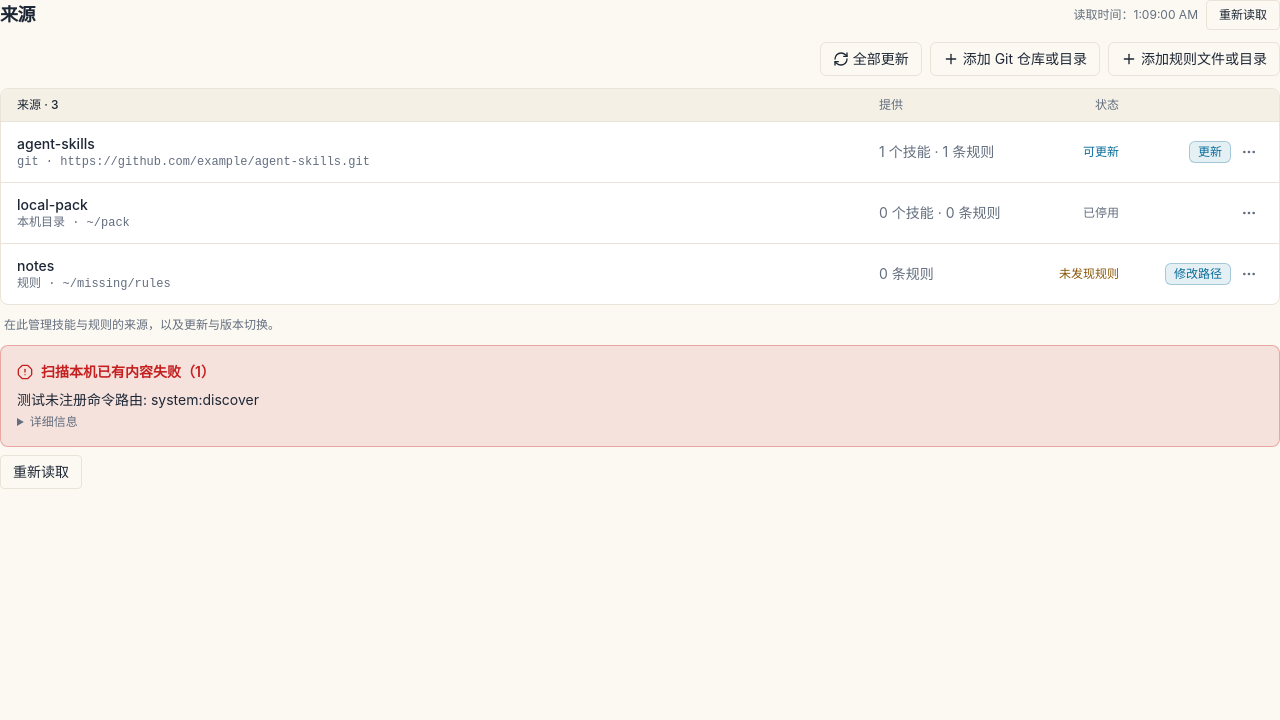
Scenario: 来源页 › 未发现规则的来源可就地修改路径，保存后回读登记
The width and height of the screenshot is (1280, 720).
Expected: the list item with test id "source-row-notes" shows "未发现规则", [1059, 266, 1119, 281]
Click the button with test id "source-edit-notes" at (1198, 274), box [1165, 263, 1231, 285]
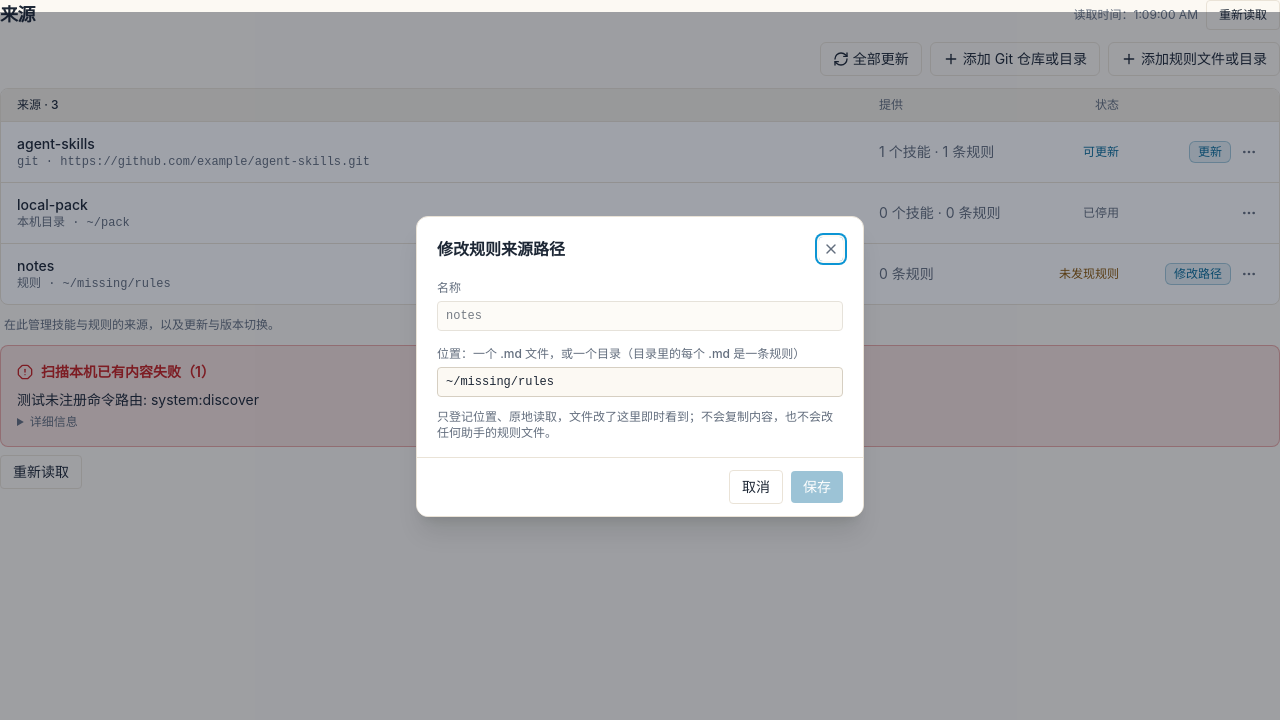
Now the field with test id "rule-source-name" is disabled, box [437, 300, 843, 330]
Now the field with test id "rule-source-path" holds "~/missing/rules"
Replace the text in the field with test id "rule-source-path" with "~/fixed/rules" at (640, 382), box [437, 366, 843, 396]
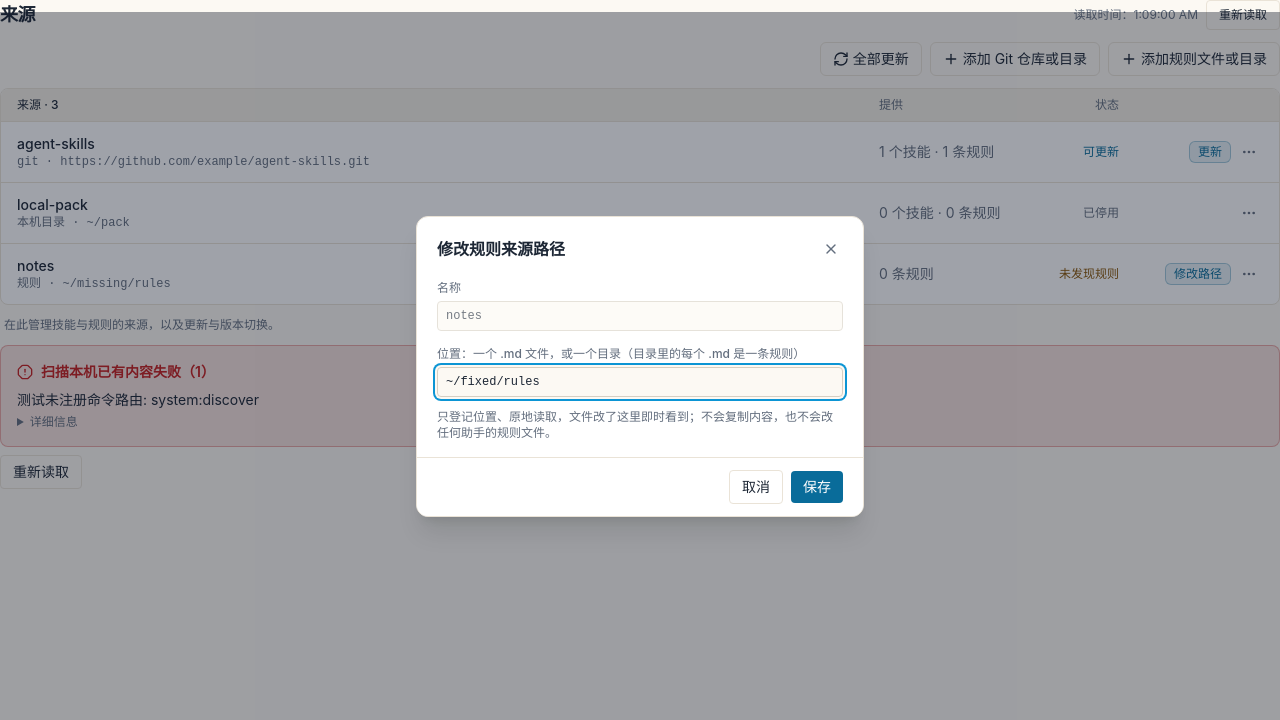
Click the button with test id "rule-source-save" at (817, 486), box [791, 470, 843, 502]
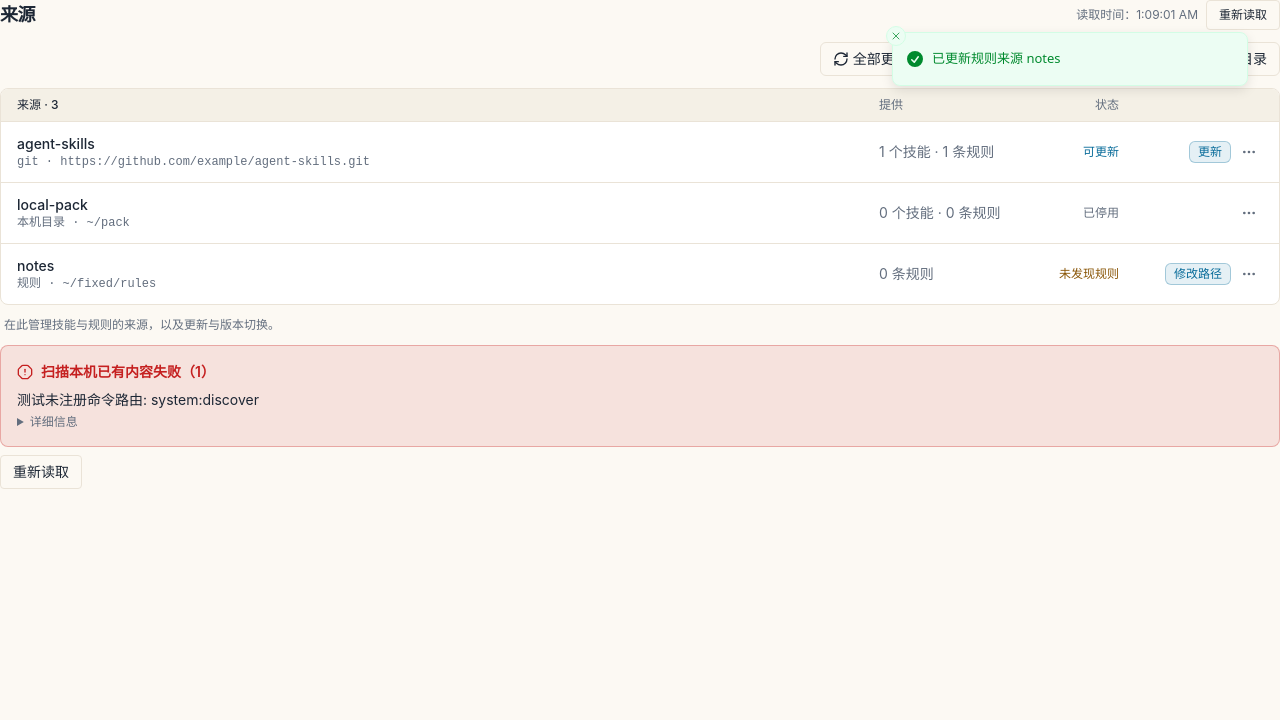
Now the heading "修改规则来源路径" is gone
Now the list item with test id "source-row-notes" shows "~/fixed/rules", box [63, 277, 156, 291]
